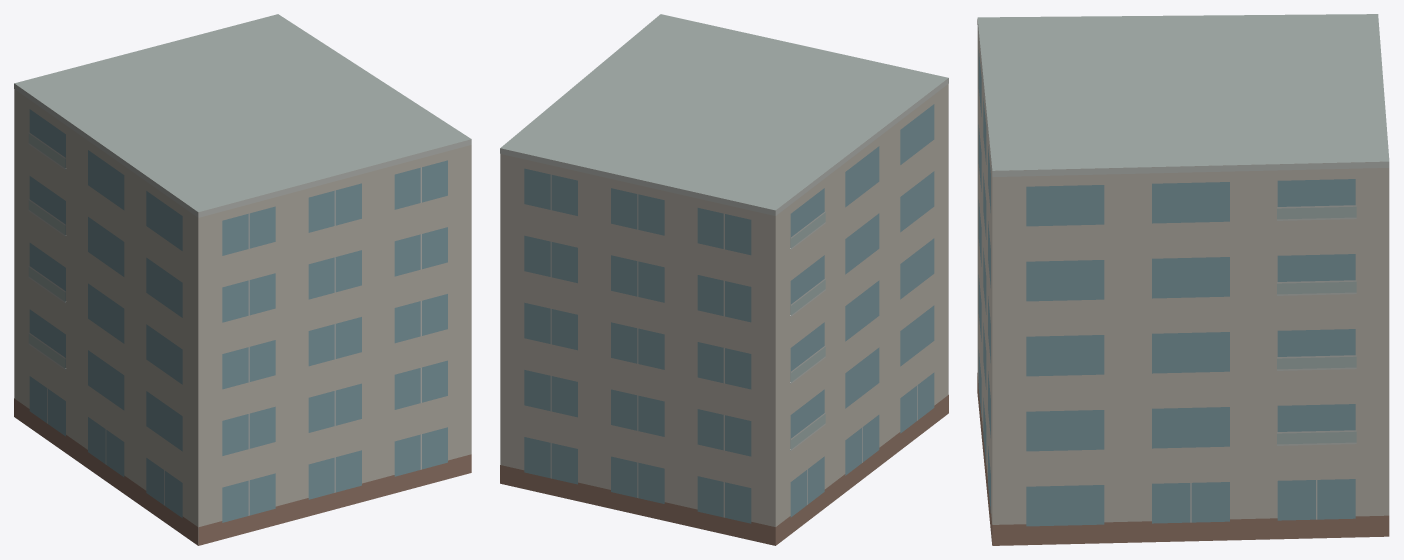
Rendered from survey-upis-32745691.glb.
The picture shows the model from 3 angles, left to right: view 1: azimuth 30°, elevation 25°; view 2: azimuth 150°, elevation 25°; view 3: azimuth 270°, elevation 25°; orthographic projection. The views are drawn at different scales.
Visible parts, largest first — view 1: survey-upis-32745691.tmp; view 2: survey-upis-32745691.tmp; view 3: survey-upis-32745691.tmp.
Part boxes in pixels (x1,y1,x2,y2): survey-upis-32745691.tmp: (14, 14, 471, 545); survey-upis-32745691.tmp: (500, 14, 948, 545); survey-upis-32745691.tmp: (977, 14, 1389, 545).
Size of the model in its own units: 13.03 by 14.5 by 14.45.
